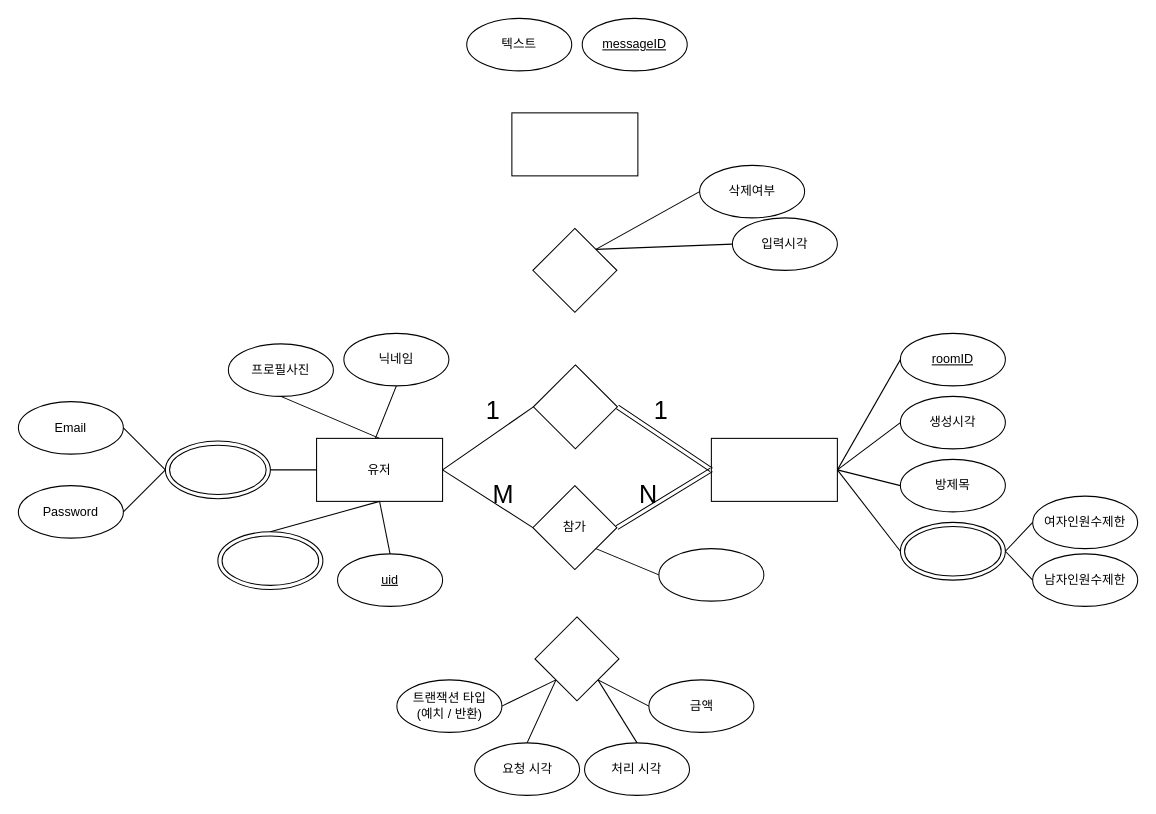
Some shapes in this 1156 by 814 pixel diagram are drawn without their labels. The centre of each missing label's shape, as x and y in pixels:
"개인정보" belongs at point 270,560.
"관리" belongs at point 574,406.
"메시지" belongs at point 574,144.
"인원수 제한" belongs at point 952,550.
"인증정보" belongs at point 217,469.
"입력 및 삭제" belongs at point 574,269.
"참가 시각" belongs at point 711,574.
"채팅방" belongs at point 773,469.
"트랜잭션 (보증금)" belongs at point 576,658.
